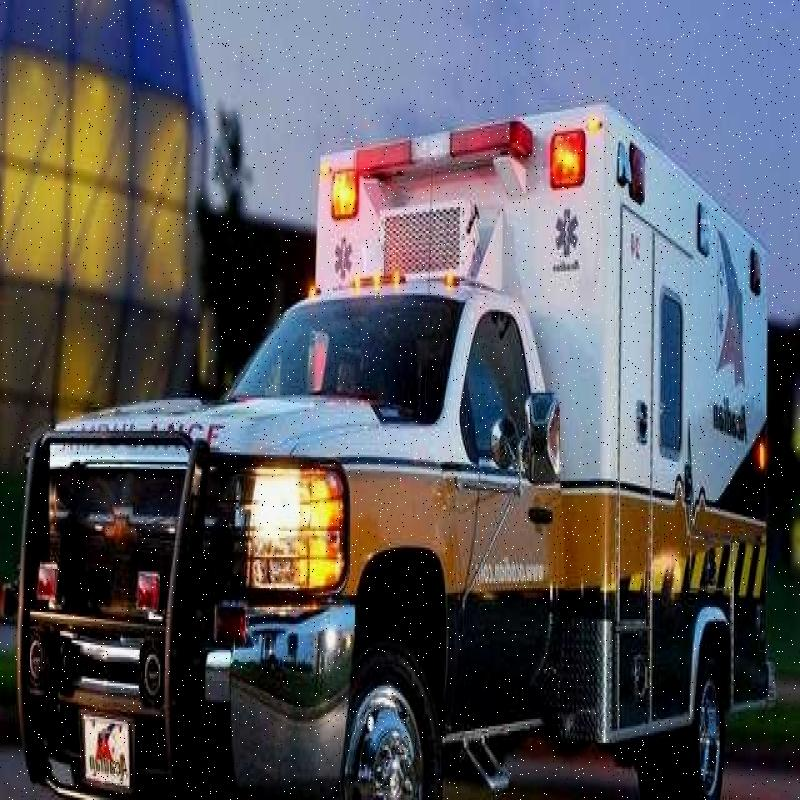AmbulanceSiren: (333, 92, 529, 199)
